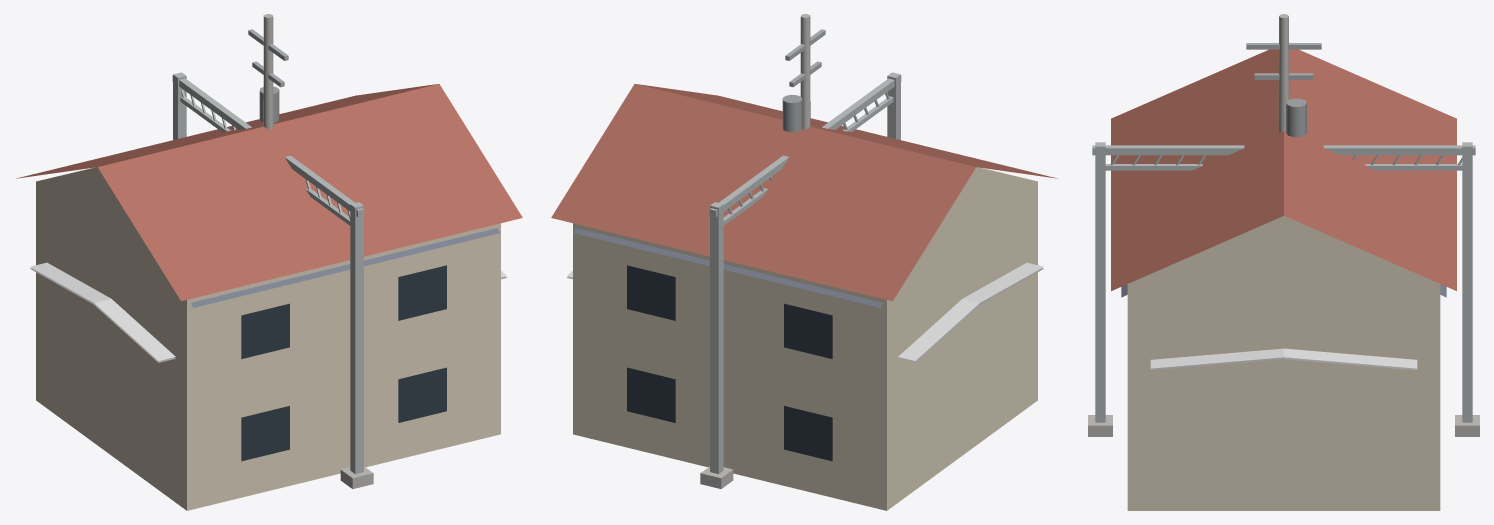
File: environment.glb
3 views of the same model, side by side, from view 1: azimuth 30°, elevation 25°; view 2: azimuth 150°, elevation 25°; view 3: azimuth 270°, elevation 25° (orthographic). The views are drawn at different scales.
Parts seen in each view (by area): view 1: house_b, catenary_gate, platform_roof, utility_pole, house_a; view 2: house_b, catenary_gate, platform_roof, utility_pole, house_a; view 3: house_b, catenary_gate, platform_roof, utility_pole.
Boxes of the visible parts, x1=… form: house_b: x1=16, y1=84, x2=522, y2=510; catenary_gate: x1=172, y1=72, x2=373, y2=488; platform_roof: x1=30, y1=262, x2=506, y2=362; utility_pole: x1=248, y1=14, x2=288, y2=129; house_a: x1=191, y1=228, x2=499, y2=307; house_b: x1=551, y1=84, x2=1057, y2=510; catenary_gate: x1=700, y1=72, x2=901, y2=488; platform_roof: x1=567, y1=262, x2=1043, y2=362; utility_pole: x1=782, y1=14, x2=825, y2=132; house_a: x1=574, y1=228, x2=882, y2=307; house_b: x1=1111, y1=49, x2=1456, y2=510; catenary_gate: x1=1088, y1=142, x2=1479, y2=436; platform_roof: x1=1150, y1=348, x2=1417, y2=370; utility_pole: x1=1246, y1=14, x2=1321, y2=137.
Size of the model in its own units: 10 by 11 by 9.4.
